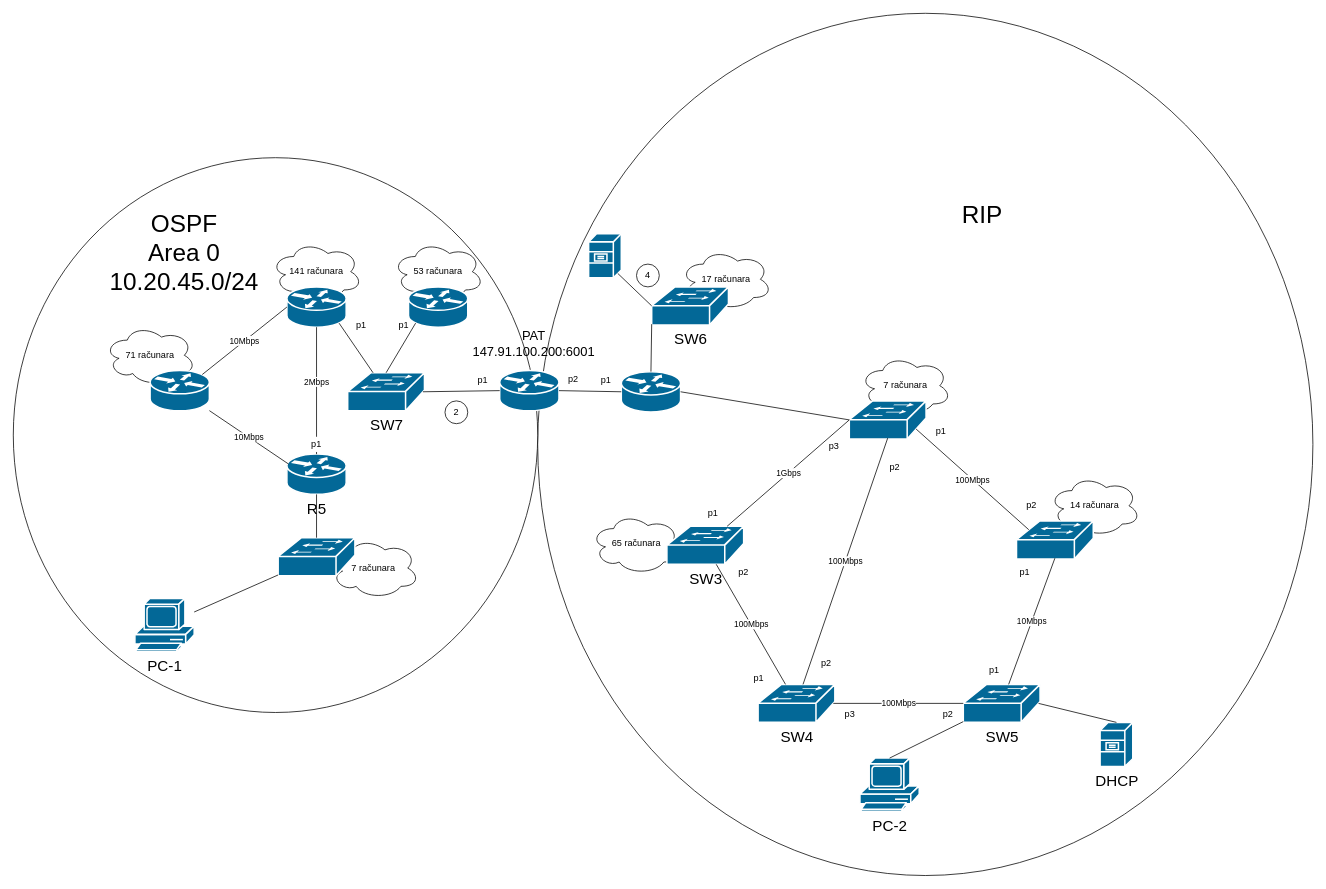
Image size: 1326x889. Some labels were removed from this diagram. Here are the shapes that lost their labels. From the top down, the centre of each, then its label:
At pixel 604 255: "WEB DNS".
At pixel 316 307: "R3".
At pixel 437 307: "R2".
At pixel 179 390: "R4".
At pixel 529 390: "R1".
At pixel 650 391: "R6".
At pixel 887 419: "SW2".
At pixel 316 556: "SW8".
At pixel 1054 539: "SW1".
